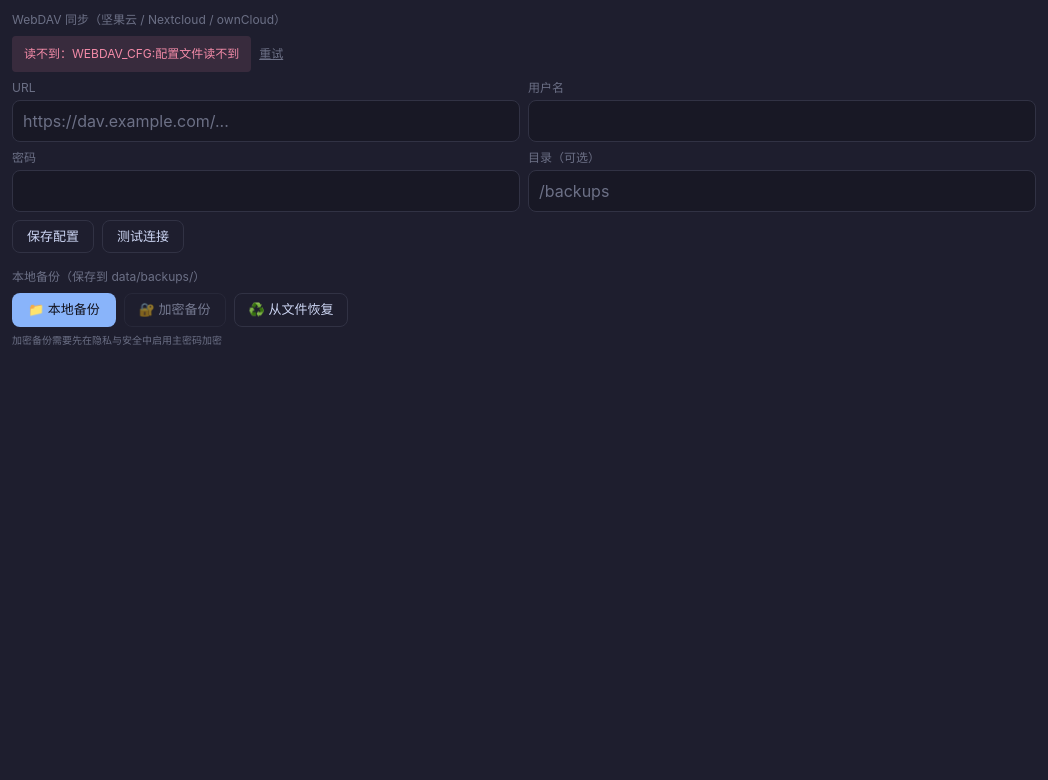
Test case: ② WebDAV 配置那一读：三种到货要分得开 › 读不到之后用户当场填好存进去 ⇒ 那句必须退场（陈旧谎报不能留着）
The image size is (1048, 780).
Note: 读不到 ⇒ 表单是空的，"保存"这一支本身要求 URL 与用户名都填过（§216 那条闸门在位）
Type "https://dav.example.com/backups" into the field with placeholder "https://dav.example.com/..." at (266, 120), box [12,100,520,142]
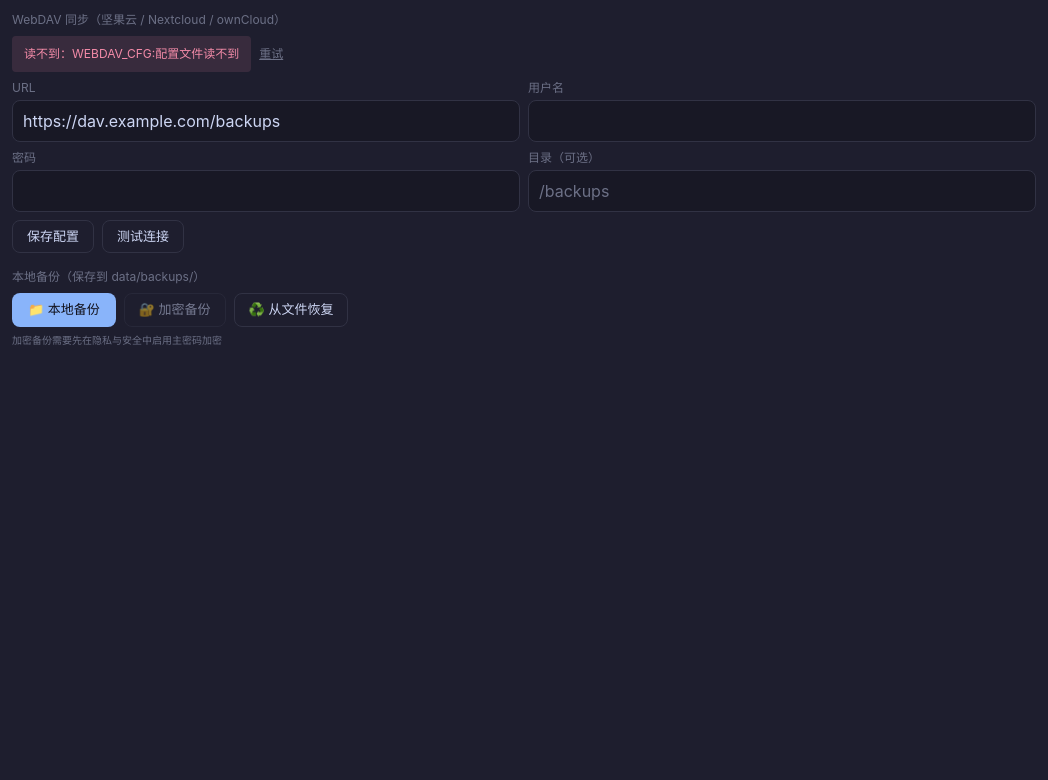
Type "me" into the field below "用户名" at (782, 120), box [528,100,1036,142]
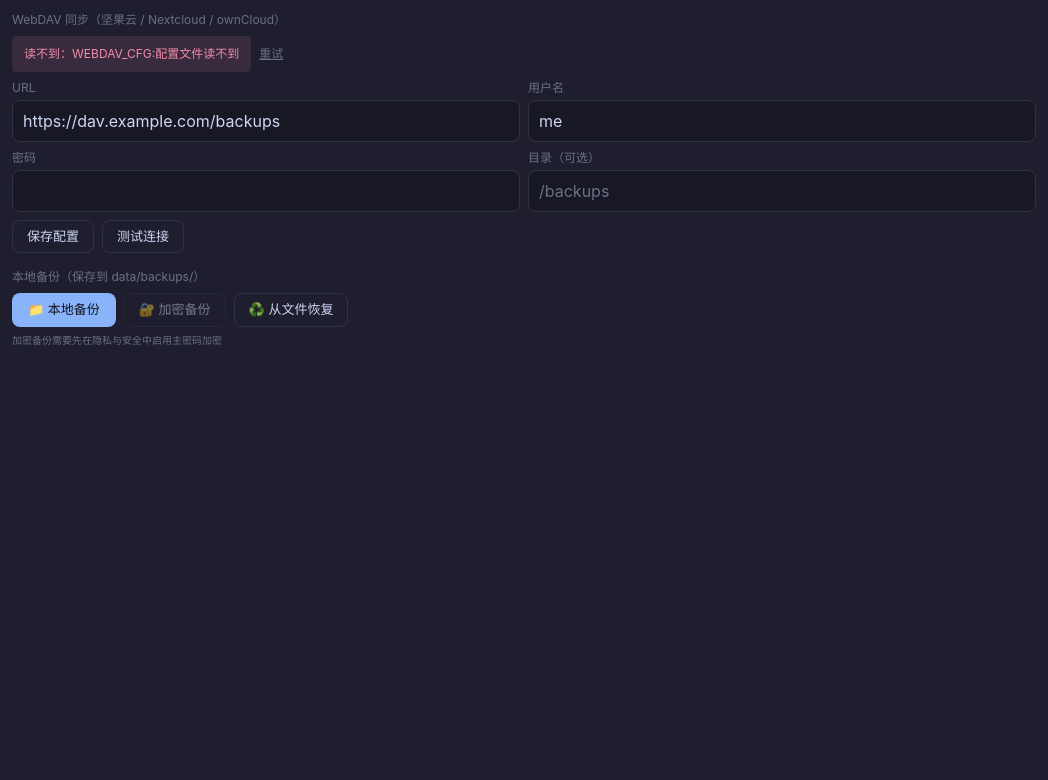
Click the button "保存配置" at (53, 236), box [12,220,94,253]
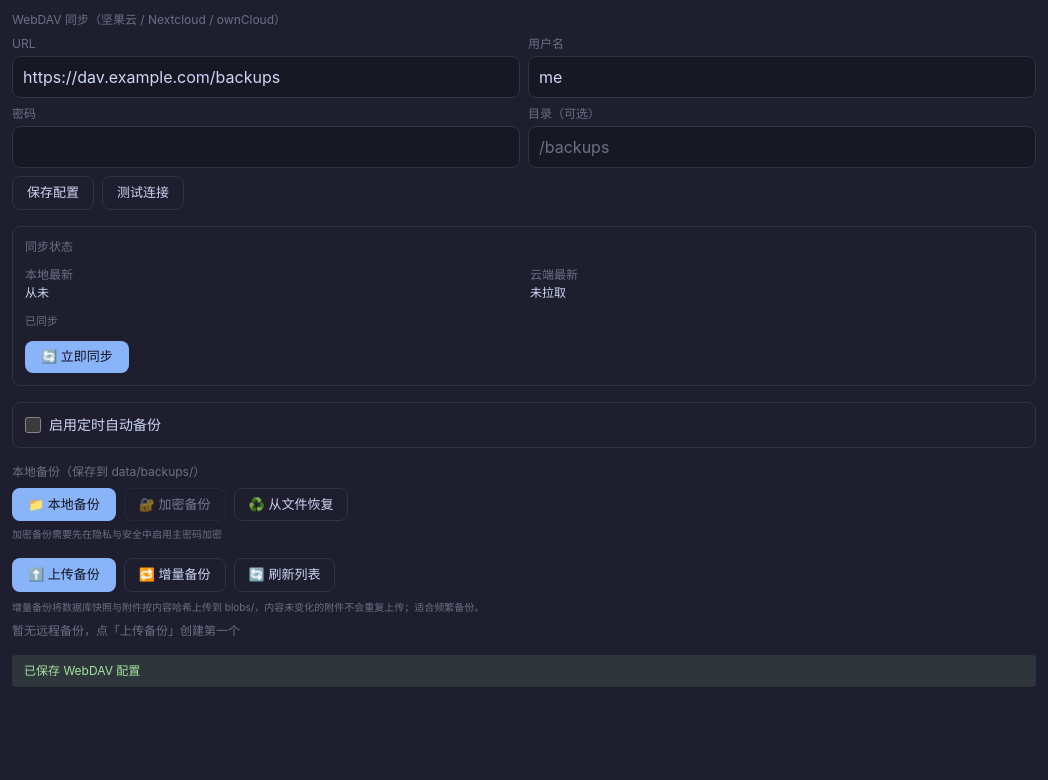
Expected: the text "同步状态" is shown, [25,238,73,254]
